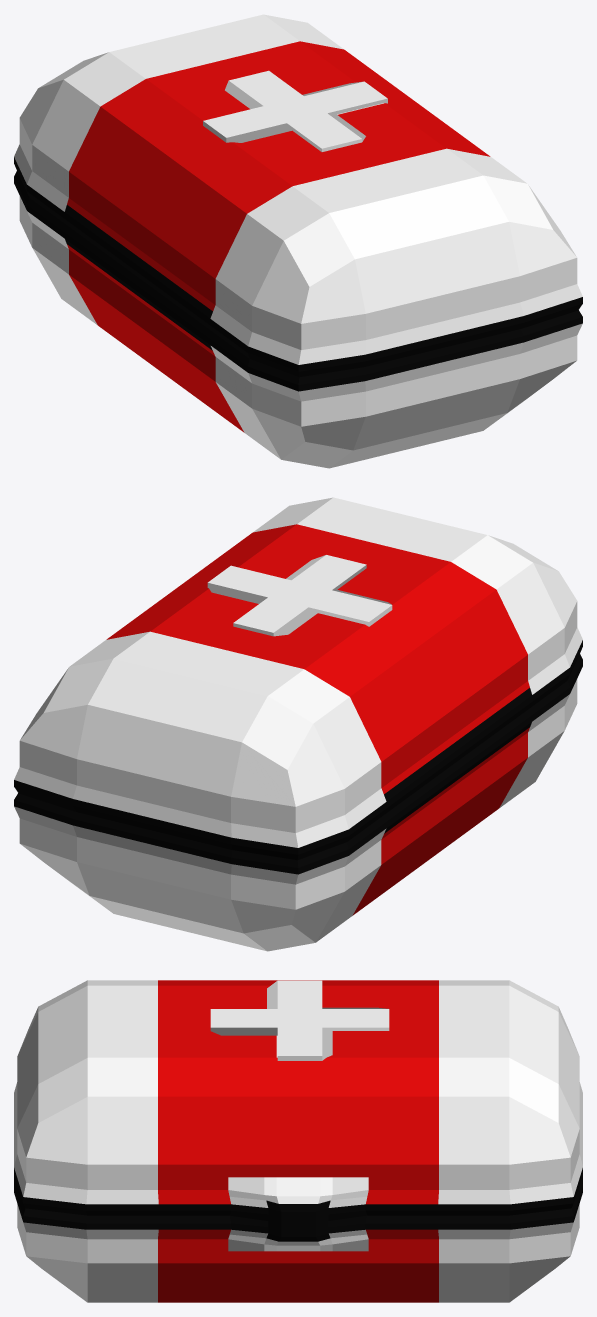
Rendered from MedKit.fbx.
The picture shows the model from 3 angles, top to bottom: view 1: azimuth 30°, elevation 25°; view 2: azimuth 150°, elevation 25°; view 3: azimuth 270°, elevation 25°; orthographic projection. The views are drawn at different scales.
Parts seen in each view (by area): view 1: Cube, Cube.001; view 2: Cube, Cube.001; view 3: Cube, Cube.001.
Boxes of the visible parts, box(x1,y1,x2,y2) form: Cube: box(14, 14, 582, 468); Cube.001: box(203, 70, 387, 151); Cube: box(14, 497, 582, 951); Cube.001: box(207, 555, 392, 636); Cube: box(14, 980, 582, 1302); Cube.001: box(210, 980, 389, 1060).
Size of the model in its own units: 216 by 161 by 333.
